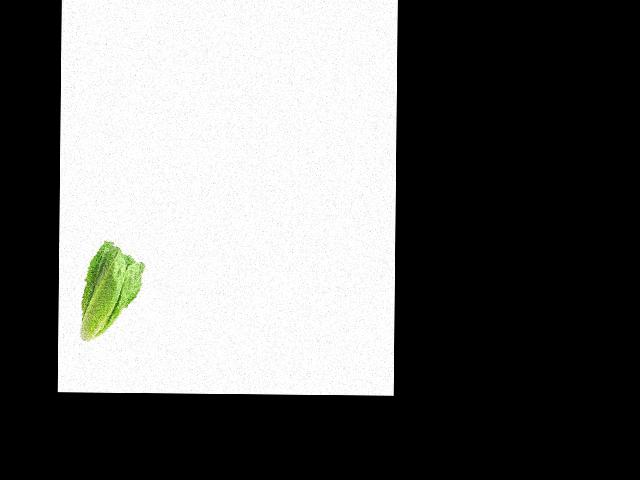lettuce: (59, 224, 151, 333)
